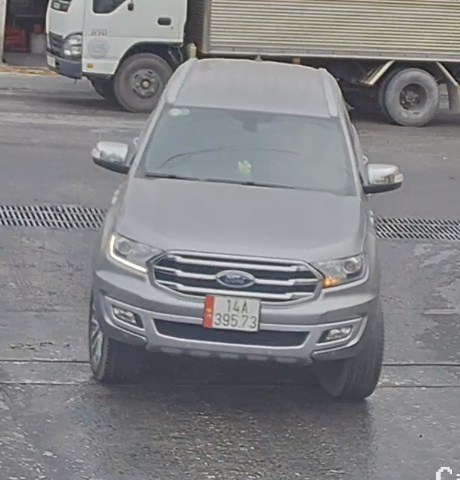vehicle plate: (204, 286, 259, 333)
